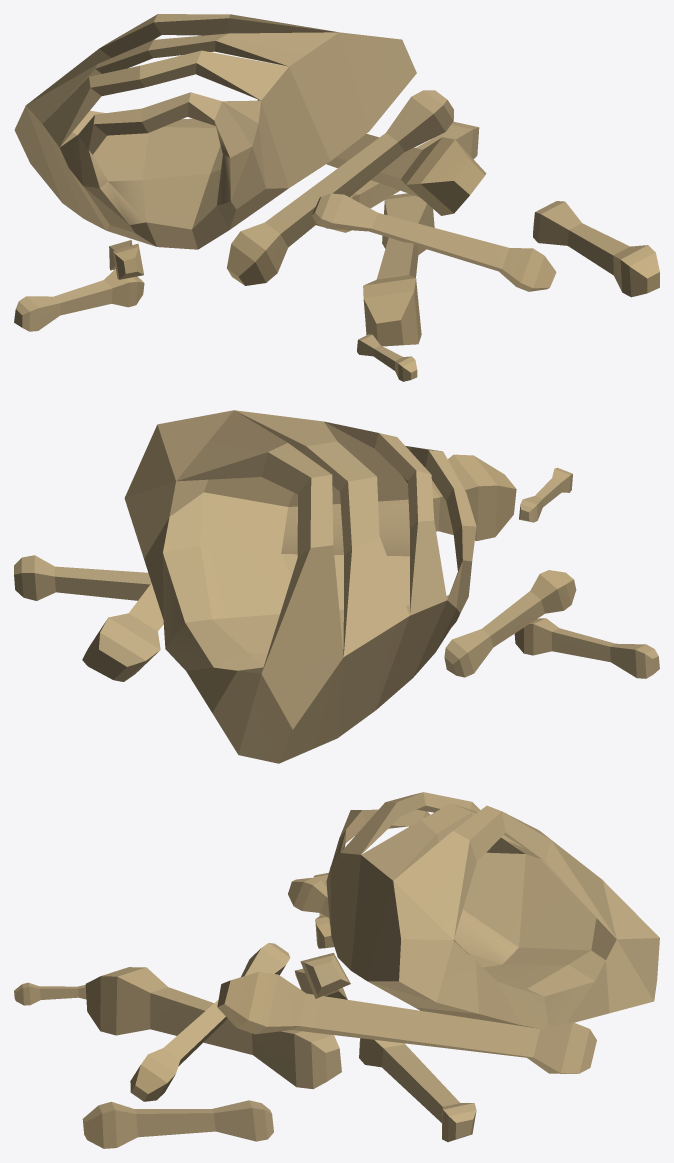
Rendered from Bone_pile_C.fbx.
3 views of the same model, one above another, from view 1: azimuth 30°, elevation 25°; view 2: azimuth 150°, elevation 25°; view 3: azimuth 270°, elevation 25° (orthographic). The views are drawn at different scales.
Parts seen in each view (by area): view 1: Bone_pile_C; view 2: Bone_pile_C; view 3: Bone_pile_C.
Boxes of the visible parts, <box> form: Bone_pile_C: <box>14,14,659,381</box>; Bone_pile_C: <box>14,410,659,763</box>; Bone_pile_C: <box>14,792,659,1148</box>.
Size of the model in its own units: 66.17 by 24.76 by 71.06.
